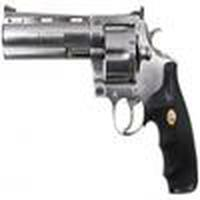gun: (4, 6, 199, 194)
